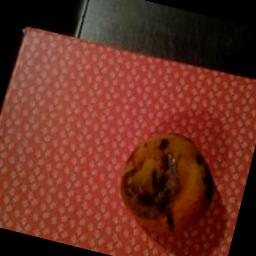Mango Rotten: (100, 116, 235, 254)
